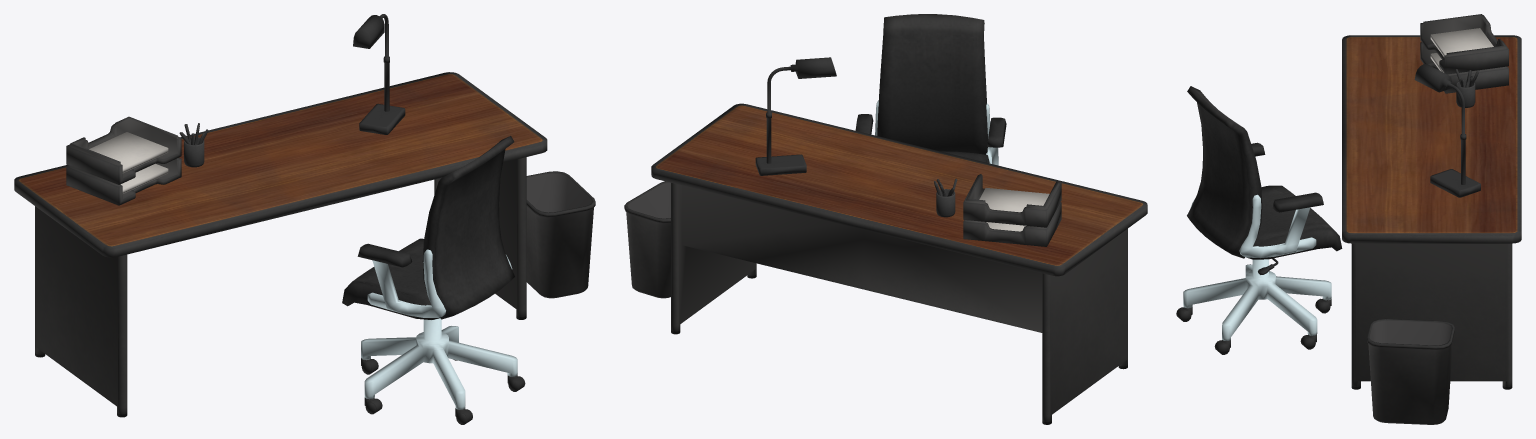
3 renders of one model, left to right at view 1: azimuth 30°, elevation 25°; view 2: azimuth 150°, elevation 25°; view 3: azimuth 270°, elevation 25°, orthographic. The views are drawn at different scales.
Visible parts, largest first — view 1: lowpoly.obj, DeskChair.obj, RubbishBin.obj, lowpoly.obj.006, lowpoly.obj.001, lowpoly.obj.004, lowpoly.obj.007, UtensilCupWith.obj, lowpoly.obj.003; view 2: lowpoly.obj, DeskChair.obj, RubbishBin.obj, lowpoly.obj.001, lowpoly.obj.006, lowpoly.obj.004, lowpoly.obj.007, UtensilCupWith.obj; view 3: lowpoly.obj, DeskChair.obj, RubbishBin.obj, lowpoly.obj.006, lowpoly.obj.001, lowpoly.obj.004, lowpoly.obj.007, UtensilCupWith.obj.
Boxes of the visible parts, x1,y1,x2,y2 form: lowpoly.obj: (14, 72, 547, 417); DeskChair.obj: (342, 136, 525, 424); RubbishBin.obj: (526, 171, 595, 298); lowpoly.obj.006: (66, 116, 181, 184); lowpoly.obj.001: (353, 14, 405, 134); lowpoly.obj.004: (66, 157, 181, 205); lowpoly.obj.007: (89, 132, 168, 173); UtensilCupWith.obj: (179, 123, 208, 167); lowpoly.obj.003: (120, 163, 168, 193); lowpoly.obj: (651, 103, 1147, 424); DeskChair.obj: (855, 14, 1006, 165); RubbishBin.obj: (624, 181, 670, 298); lowpoly.obj.001: (755, 57, 836, 175); lowpoly.obj.006: (963, 174, 1061, 227); lowpoly.obj.004: (963, 202, 1061, 246); lowpoly.obj.007: (979, 188, 1049, 212); UtensilCupWith.obj: (934, 178, 957, 217); lowpoly.obj: (1342, 35, 1521, 389); DeskChair.obj: (1176, 86, 1342, 354); RubbishBin.obj: (1367, 318, 1454, 424); lowpoly.obj.006: (1420, 14, 1508, 74); lowpoly.obj.001: (1414, 64, 1480, 197); lowpoly.obj.004: (1420, 42, 1508, 93); lowpoly.obj.007: (1430, 28, 1493, 56); UtensilCupWith.obj: (1455, 69, 1478, 107).
Bounding box in the file's own units: 5.18 × 2.81 × 3.28.
Materials: 9 (9 with a texture image).
